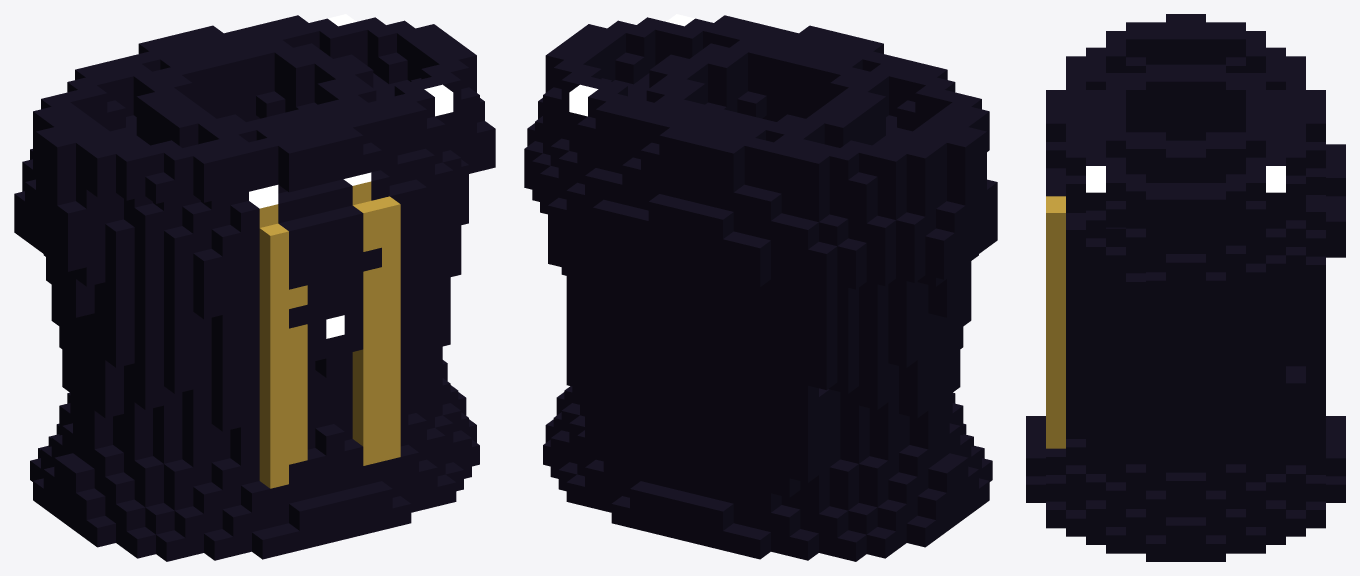
Rendered from mystic_legendary_chest_lod1.glb.
3 renders of one model, left to right at view 1: azimuth 30°, elevation 25°; view 2: azimuth 150°, elevation 25°; view 3: azimuth 270°, elevation 25°, orthographic. The views are drawn at different scales.
Visible parts, largest first — view 1: mystic_legendary_chest_lod1; view 2: mystic_legendary_chest_lod1; view 3: mystic_legendary_chest_lod1.
Boxes of the visible parts, <box> form: mystic_legendary_chest_lod1: <box>14,14,495,561</box>; mystic_legendary_chest_lod1: <box>524,14,997,561</box>; mystic_legendary_chest_lod1: <box>1026,14,1345,561</box>.
Size of the model in its own units: 0.552 by 0.48 by 0.384.
